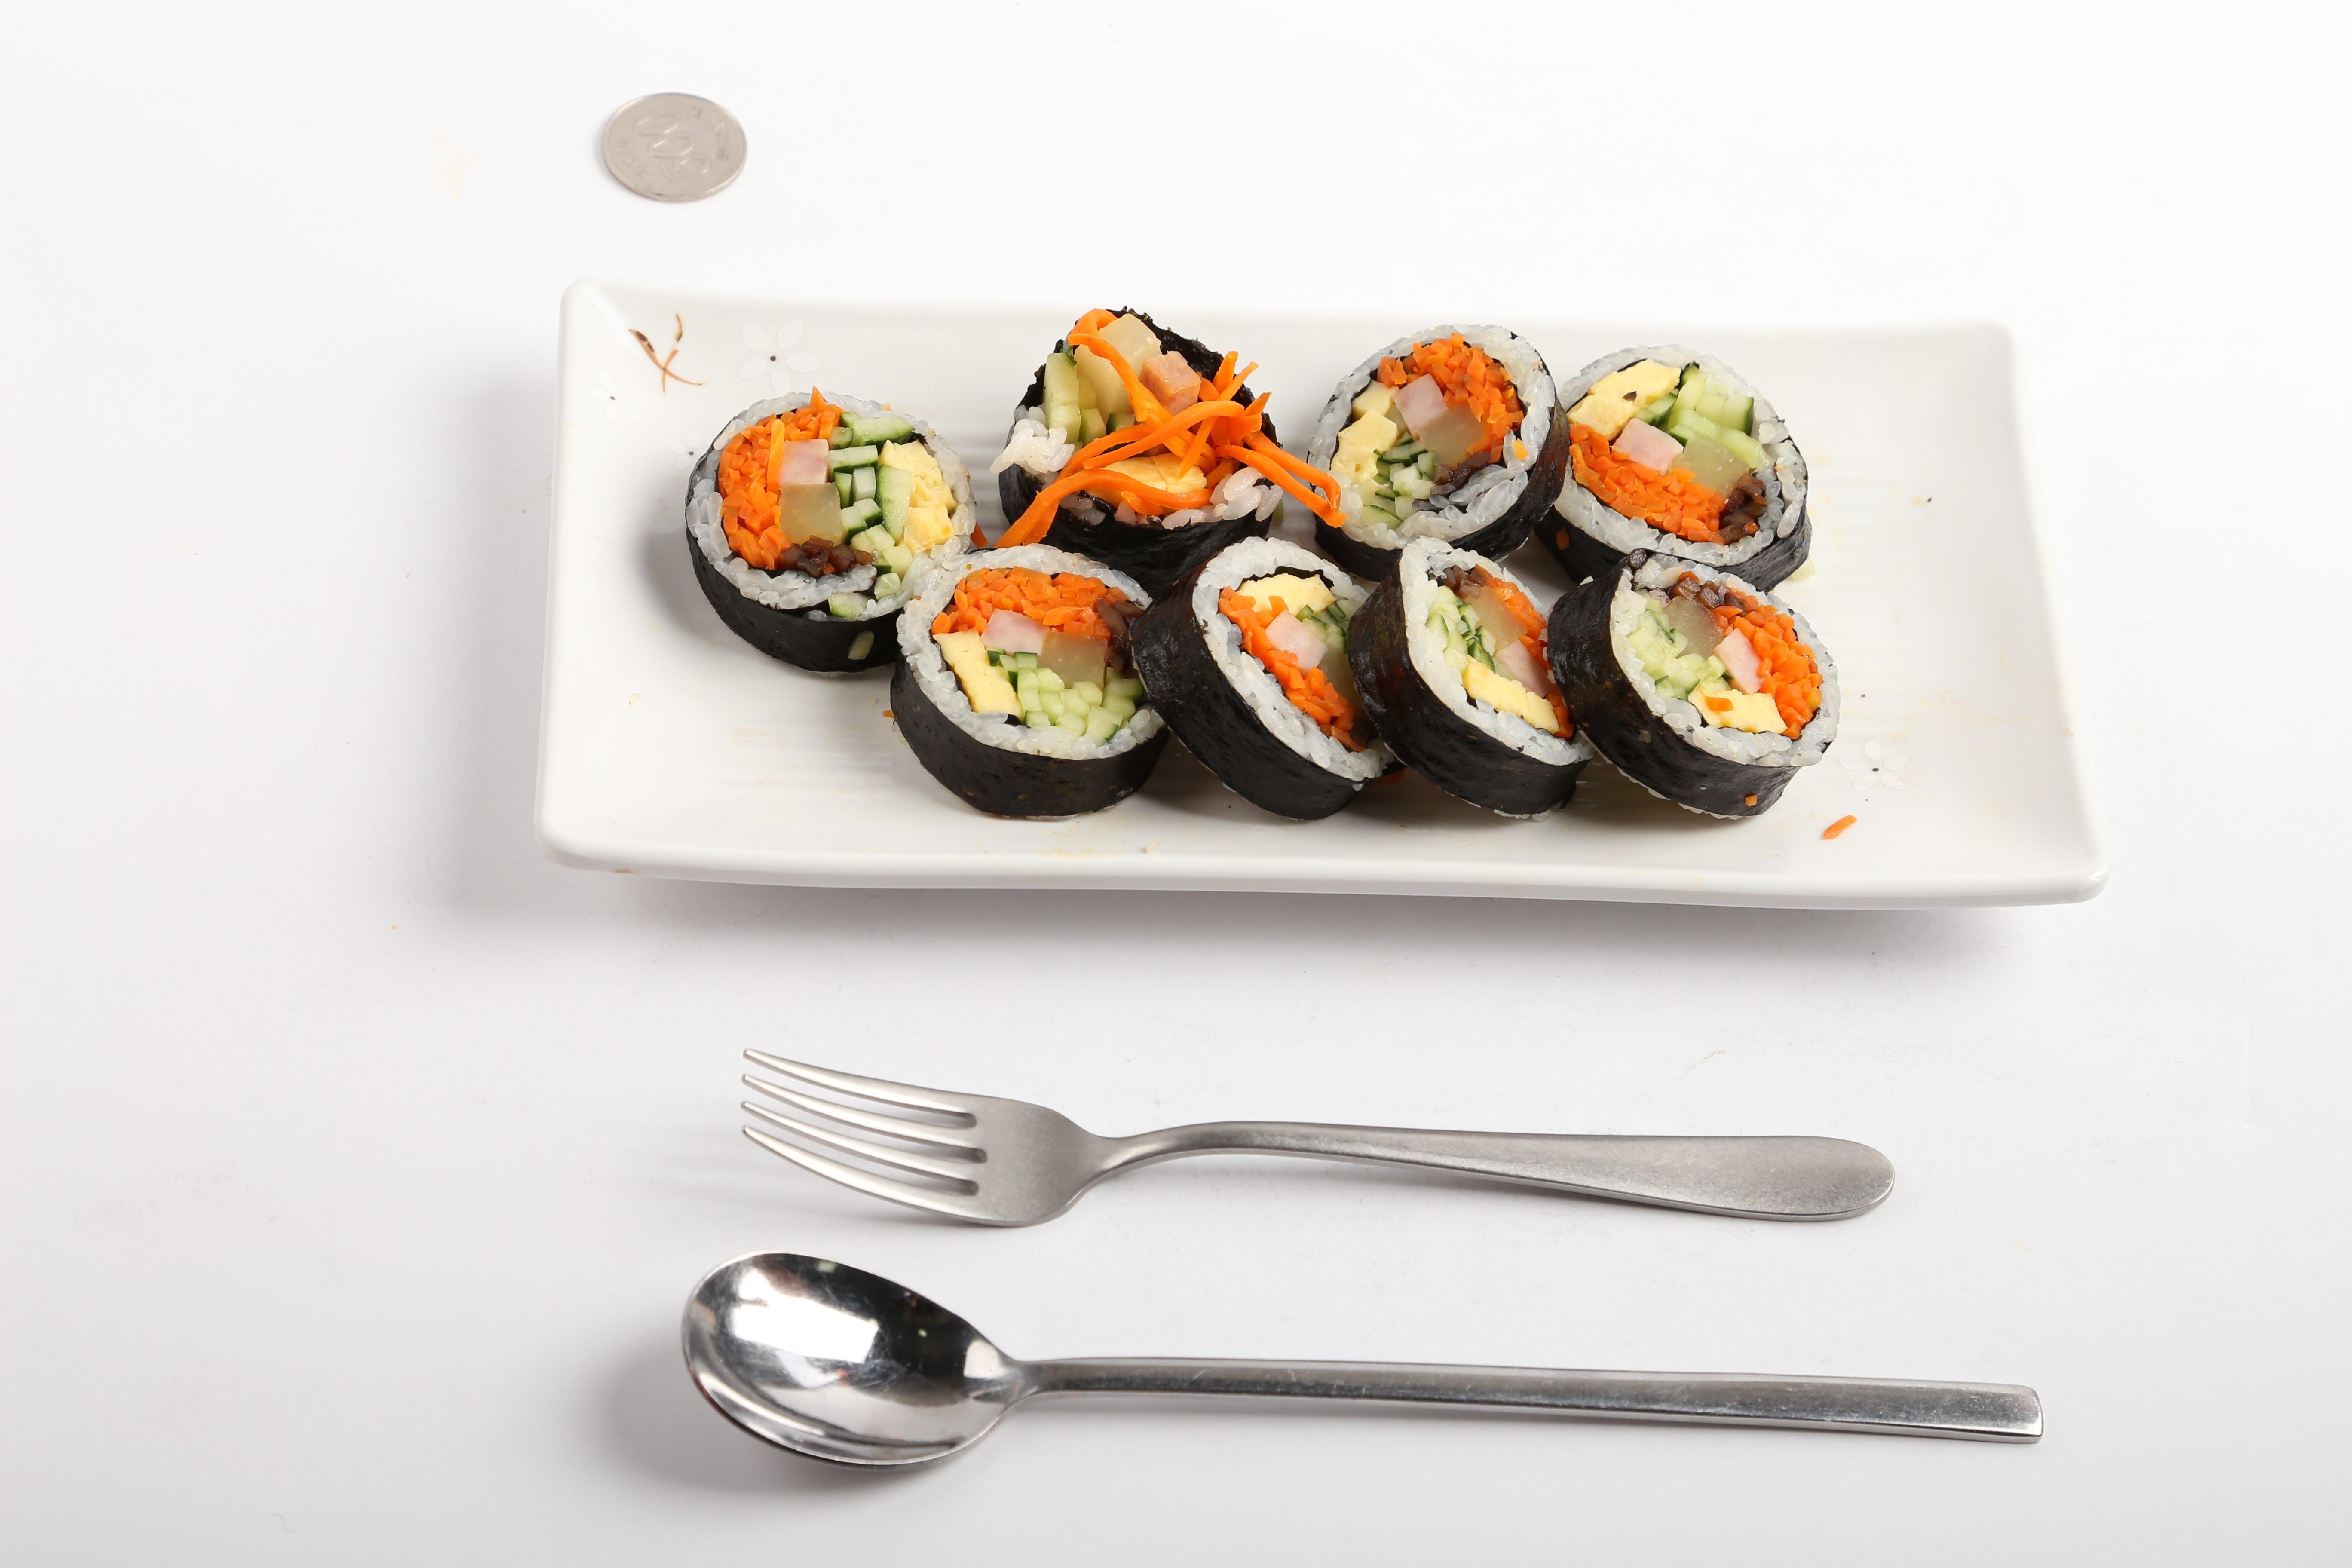dish: (535, 278, 2107, 919)
ref_coin: (593, 79, 752, 212)
ref_fork: (733, 1038, 1186, 1232)
ref_spoon: (677, 1242, 1099, 1475)
김밥: (682, 303, 1848, 824)
